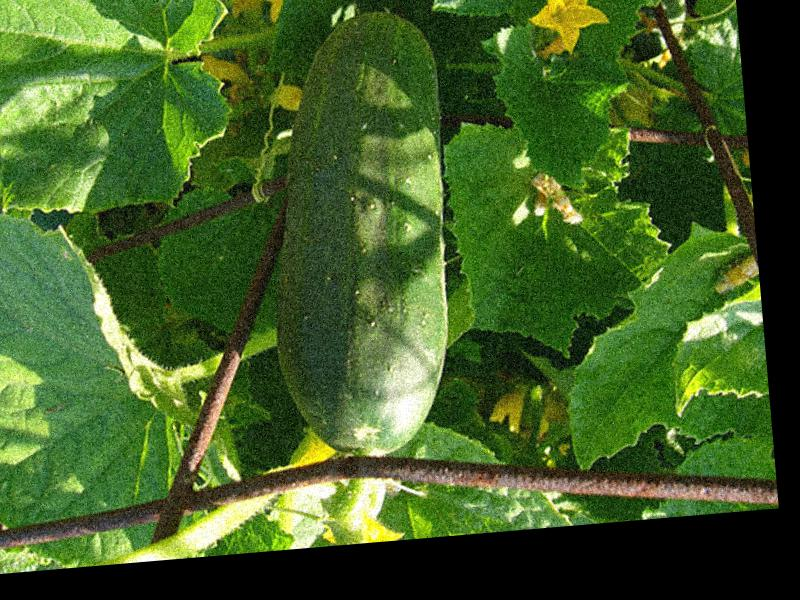Cucumber: (245, 5, 469, 462)
